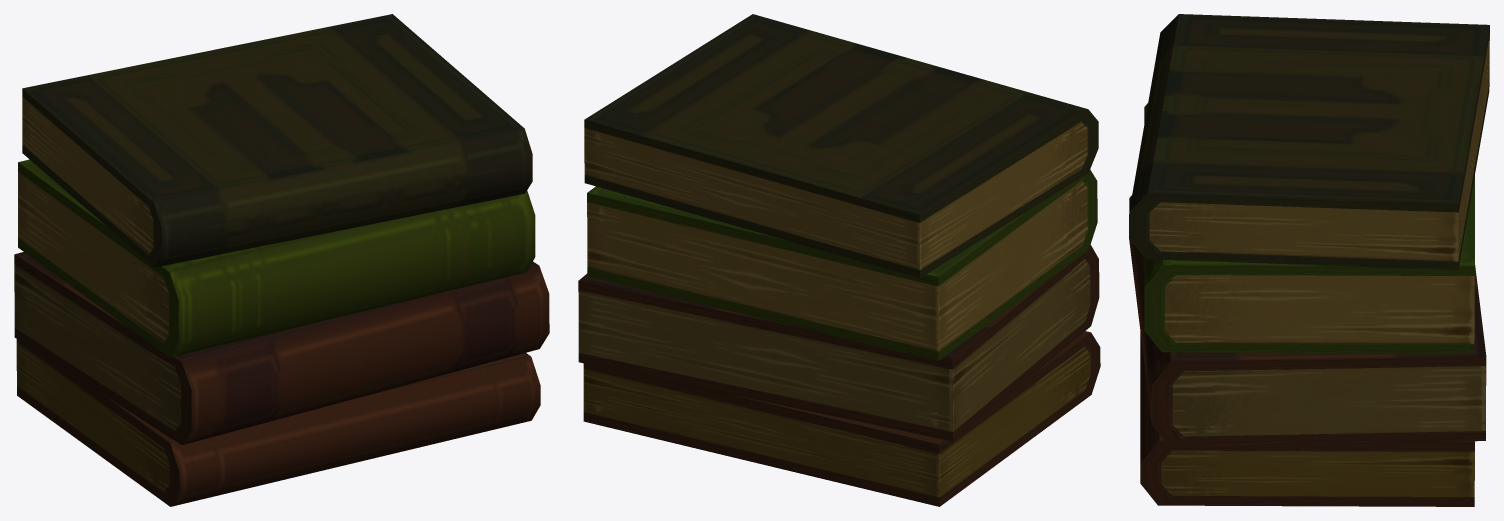
File: prop_book_stack_1.glb
The picture shows the model from 3 angles, left to right: view 1: azimuth 30°, elevation 25°; view 2: azimuth 150°, elevation 25°; view 3: azimuth 270°, elevation 25°; orthographic projection. The views are drawn at different scales.
Parts seen in each view (by area): view 1: Book_Stack_1; view 2: Book_Stack_1; view 3: Book_Stack_1.
Boxes of the visible parts, x1,y1,x2,y2 form: Book_Stack_1: (14, 14, 549, 506); Book_Stack_1: (578, 14, 1100, 506); Book_Stack_1: (1129, 14, 1489, 506).
Bounding box in the file's own units: 0.2849 × 0.2137 × 0.2263.
1 material, 1 textured.
